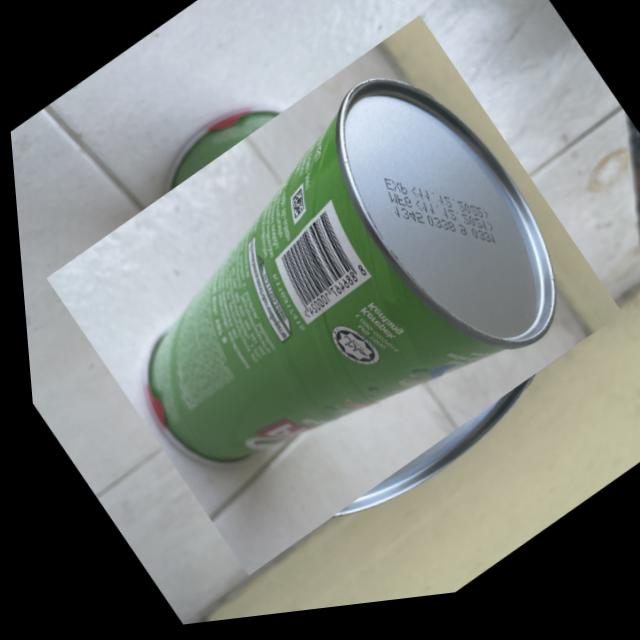a pringles: (35, 1, 622, 605)
